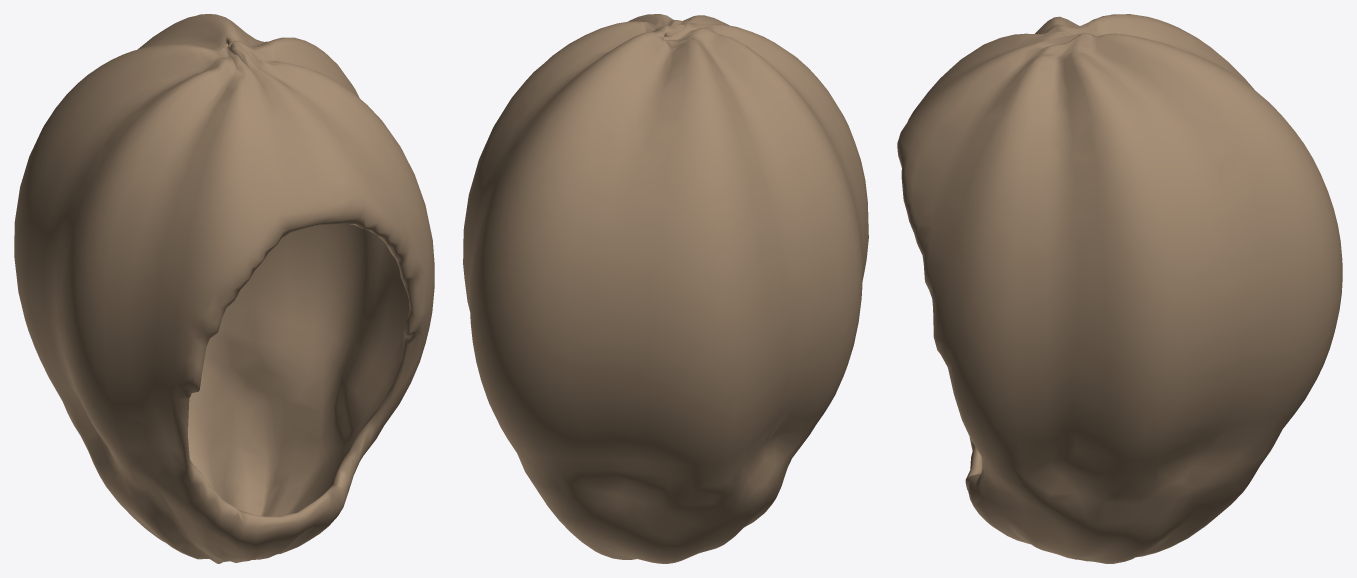
Rendered from hood_up.glb.
3 views of the same model, side by side, from view 1: azimuth 30°, elevation 25°; view 2: azimuth 150°, elevation 25°; view 3: azimuth 270°, elevation 25° (orthographic).
Parts seen in each view (by area): view 1: HoodUp; view 2: HoodUp; view 3: HoodUp.
Part boxes in pixels (x1=…): HoodUp: x1=14, y1=14, x2=434, y2=563; HoodUp: x1=463, y1=14, x2=868, y2=563; HoodUp: x1=897, y1=14, x2=1342, y2=563.
Bounding box in the file's own units: 0.2518 × 0.3641 × 0.2809.
